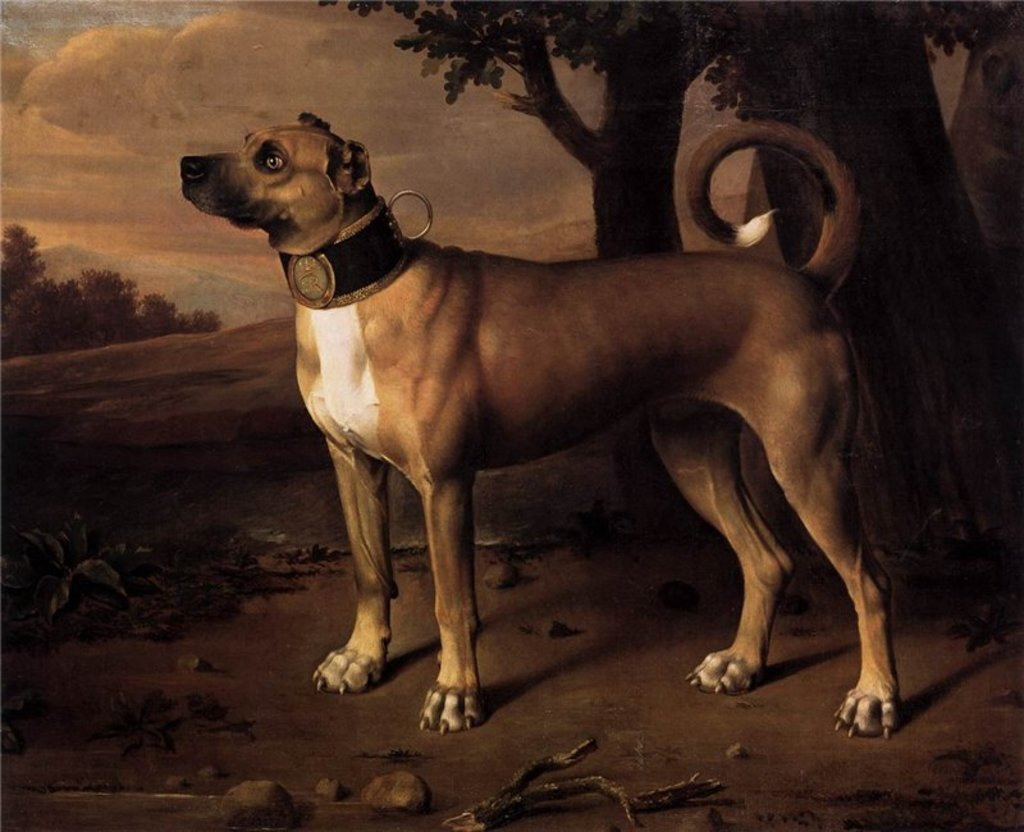Tree: (315, 0, 1023, 632), (0, 222, 226, 365)
